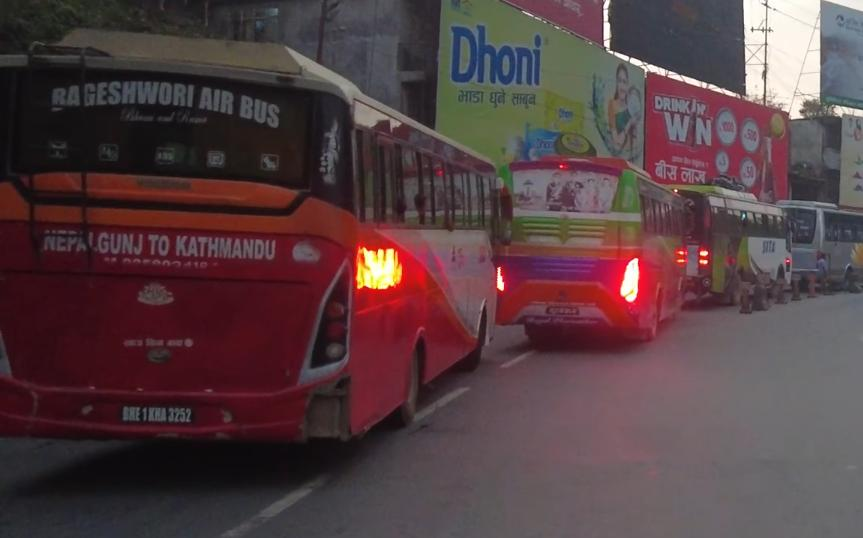bus: (0, 18, 512, 493), (504, 140, 689, 346), (672, 170, 801, 304)
